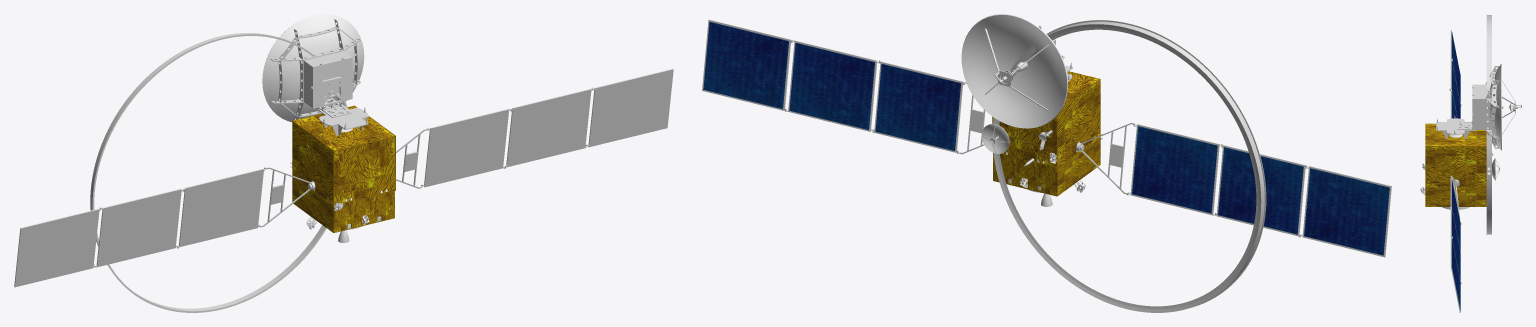
Rendered from satellite1.glb.
The picture shows the model from 3 angles, left to right: view 1: azimuth 30°, elevation 25°; view 2: azimuth 150°, elevation 25°; view 3: azimuth 270°, elevation 25°; orthographic projection. The views are drawn at different scales.
Visible parts, largest first — view 1: Line107, Line208, Line219, Line215, Line171, Line166, Line10, Line84, Line155, Line02, Line06, Line124 (+8 smaller); view 2: Line107, Line155, Line220, Line157, Line172, Line209, Line161, Line214, Line02, Line01, _996, Line219 (+11 smaller); view 3: Line85, _117, Line155, Line03, Line124, Line107, Line06, Line64, Line172, Line157, Line220, Line161 (+6 smaller).
Boxes of the visible parts, x1=… form: Line107: x1=262, y1=14, x2=364, y2=122; Line208: x1=178, y1=168, x2=263, y2=246; Line219: x1=14, y1=209, x2=99, y2=287; Line215: x1=96, y1=188, x2=181, y2=266; Line171: x1=588, y1=68, x2=673, y2=147; Line166: x1=506, y1=88, x2=591, y2=167; Line10: x1=424, y1=109, x2=508, y2=187; Line84: x1=333, y1=137, x2=394, y2=205; Line155: x1=90, y1=33, x2=347, y2=312; Line02: x1=292, y1=122, x2=334, y2=205; Line06: x1=304, y1=51, x2=352, y2=108; Line124: x1=270, y1=19, x2=360, y2=120; Line107: x1=961, y1=14, x2=1067, y2=128; Line155: x1=993, y1=20, x2=1266, y2=312; Line220: x1=1304, y1=168, x2=1389, y2=255; Line157: x1=875, y1=64, x2=960, y2=150; Line172: x1=703, y1=22, x2=788, y2=108; Line209: x1=1132, y1=126, x2=1217, y2=213; Line161: x1=789, y1=43, x2=874, y2=129; Line214: x1=1218, y1=147, x2=1303, y2=234; Line02: x1=1056, y1=80, x2=1100, y2=167; Line01: x1=993, y1=116, x2=1057, y2=167; _996: x1=1057, y1=136, x2=1100, y2=196; Line219: x1=1302, y1=166, x2=1391, y2=257; Line85: x1=1425, y1=146, x2=1486, y2=186; _117: x1=1426, y1=185, x2=1486, y2=206; Line155: x1=1486, y1=14, x2=1491, y2=235; Line03: x1=1425, y1=123, x2=1486, y2=145; Line124: x1=1485, y1=66, x2=1499, y2=148; Line107: x1=1488, y1=64, x2=1501, y2=150; Line06: x1=1472, y1=84, x2=1484, y2=129; Line64: x1=1436, y1=118, x2=1475, y2=134; Line172: x1=1451, y1=239, x2=1460, y2=310; Line157: x1=1451, y1=180, x2=1460, y2=251; Line220: x1=1451, y1=31, x2=1460, y2=103; Line161: x1=1451, y1=209, x2=1460, y2=280.
Size of the model in its own units: 464 by 184 by 84.7.
7 materials, 2 textured.
